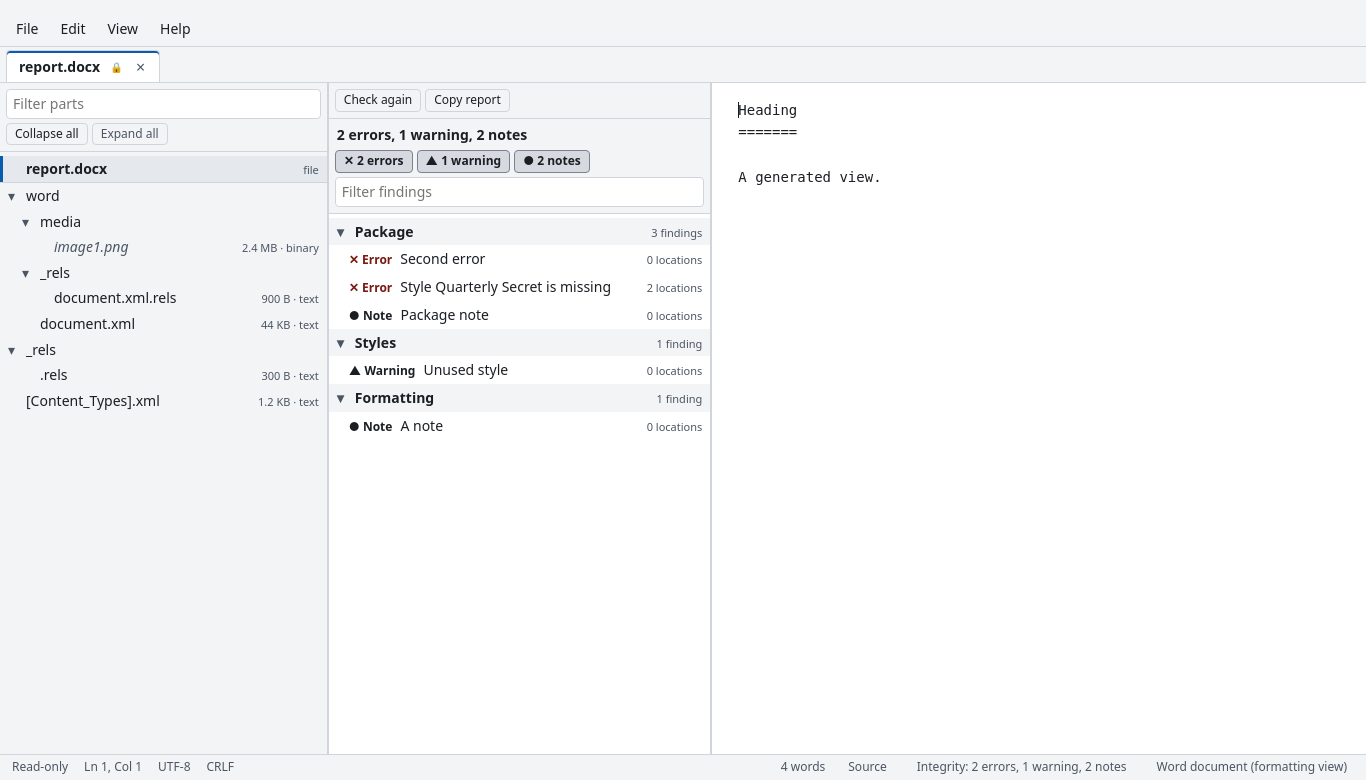
Test: the Integrity pane › filters by severity with live counts, using aria-pressed toggles
Check: the element "findings" is shown, box [329,214,710,754]
Check: the button "▲ 1 warning" is shown, box [417,150,510,173]
Click the button "✕ 2 errors".
click(374, 162)  # box [335,150,413,173]
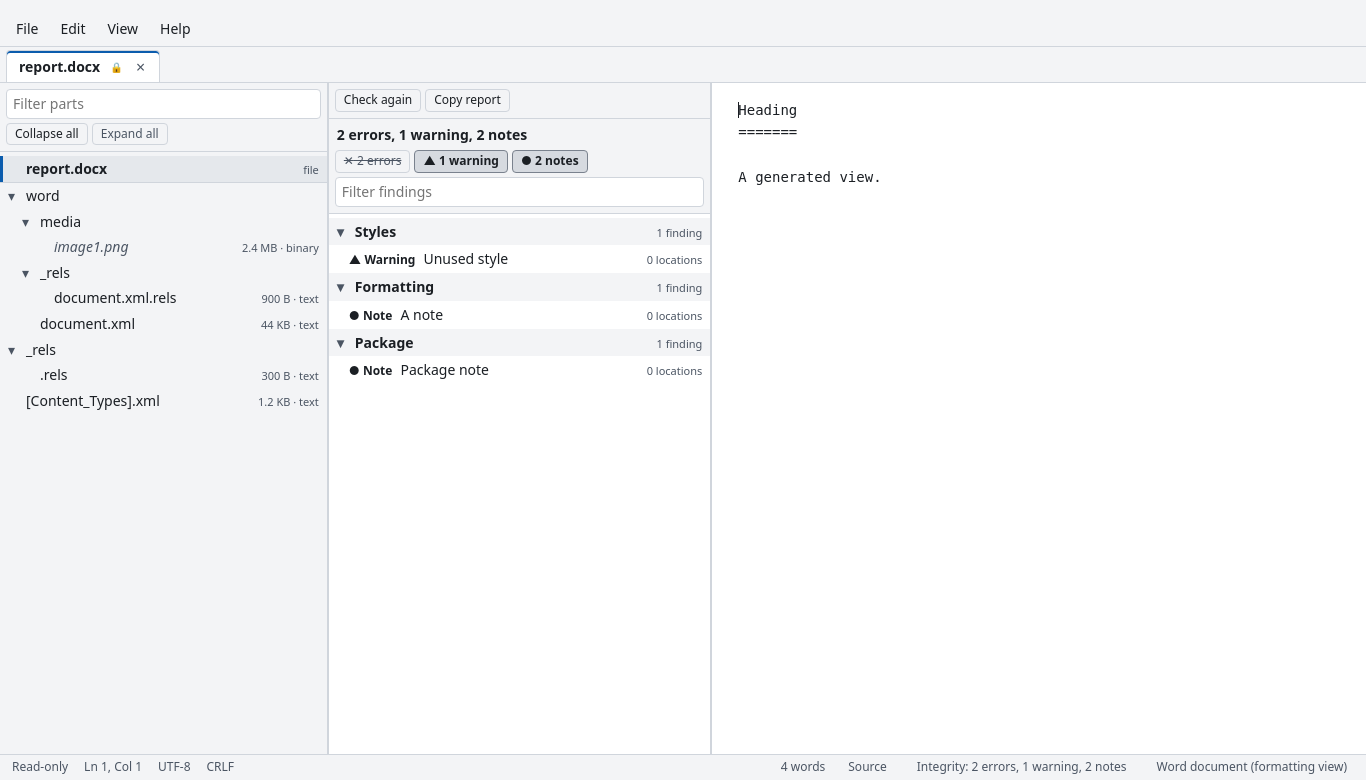
Check: the list item "▲ Warning Unused style 0 locations" is shown, box [329,245,710,273]
Check: the text "Second error" is gone
Click the button "▲ 1 warning".
click(461, 162)  # box [414,150,508,173]
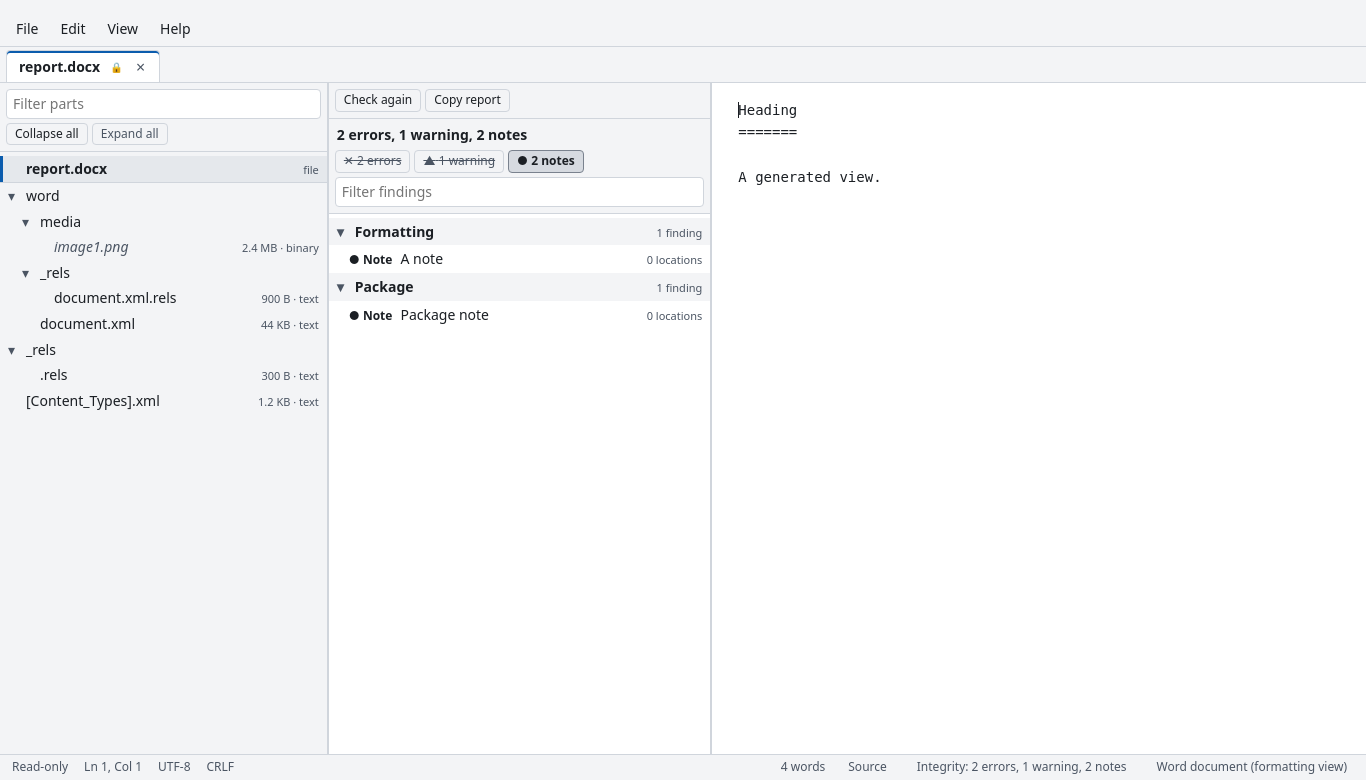
Click the button "● 2 notes".
click(546, 162)  # box [508,150,584,173]
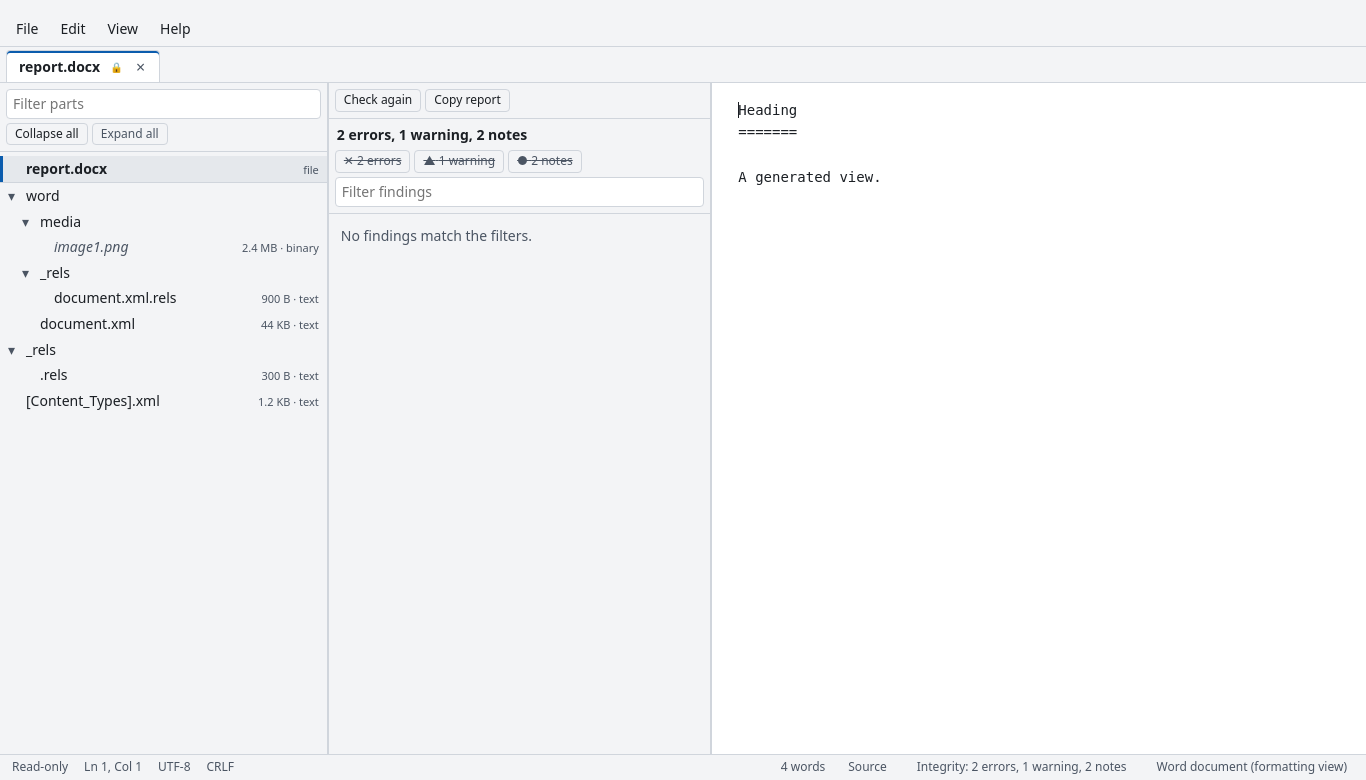
Check: the text "No findings match the filters." is shown, box [341,226,532,245]
